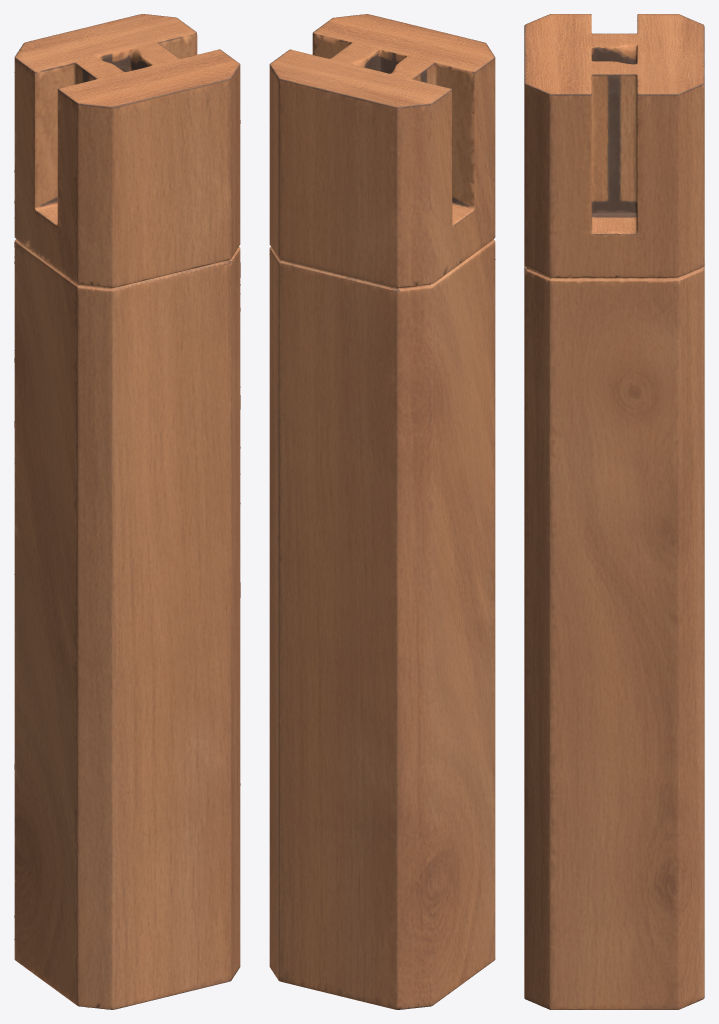
Rendered from 组件集合陆.glb.
3 views of the same model, side by side, from view 1: azimuth 30°, elevation 25°; view 2: azimuth 150°, elevation 25°; view 3: azimuth 270°, elevation 25° (orthographic).
Bounding box in the file's own units: 0.3584 × 1.9 × 0.3388.
Materials: 1 (1 with a texture image).
